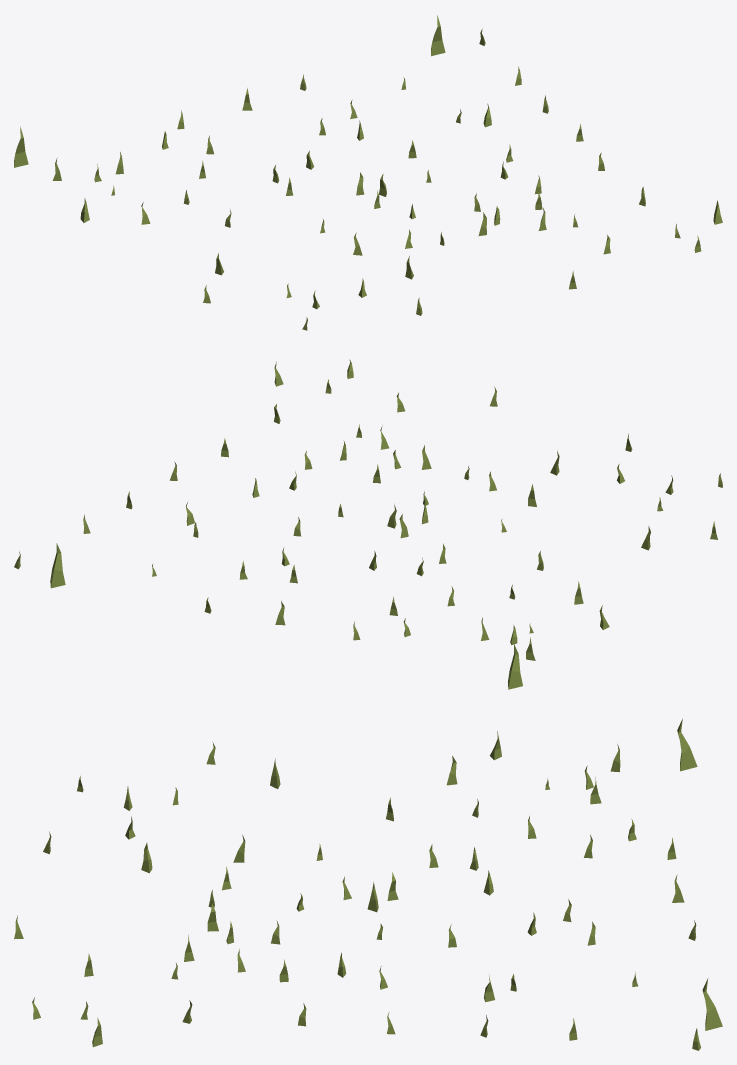
Rendered from FewLowGrass.fbx.
The picture shows the model from 3 angles, top to bottom: view 1: azimuth 30°, elevation 25°; view 2: azimuth 150°, elevation 25°; view 3: azimuth 270°, elevation 25°; orthographic projection. The views are drawn at different scales.
Parts seen in each view (by area): view 1: Plane.494; view 2: Plane.494; view 3: Plane.494.
Boxes of the visible parts, x1,y1,x2,y2 form: Plane.494: (14, 15, 722, 330); Plane.494: (14, 359, 722, 689); Plane.494: (14, 718, 722, 1050).
Size of the model in its own units: 468 by 36.35 by 476.
